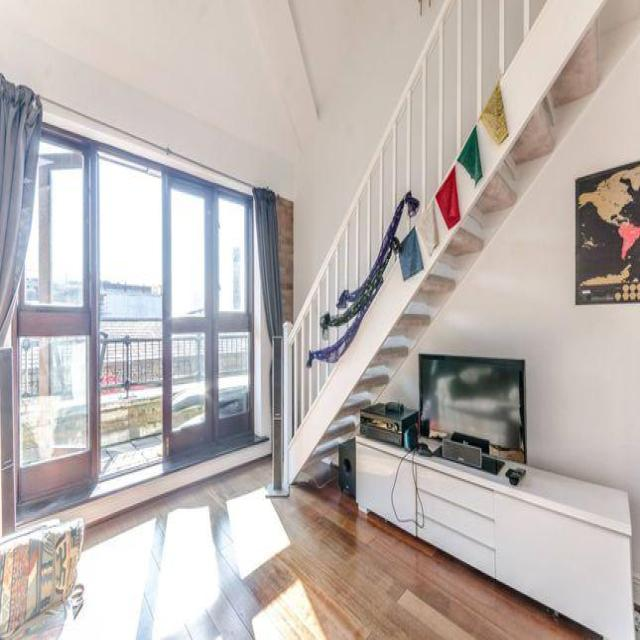Wall: (382, 36, 640, 590), (0, 0, 442, 312), (60, 461, 592, 639), (0, 1, 362, 160)
